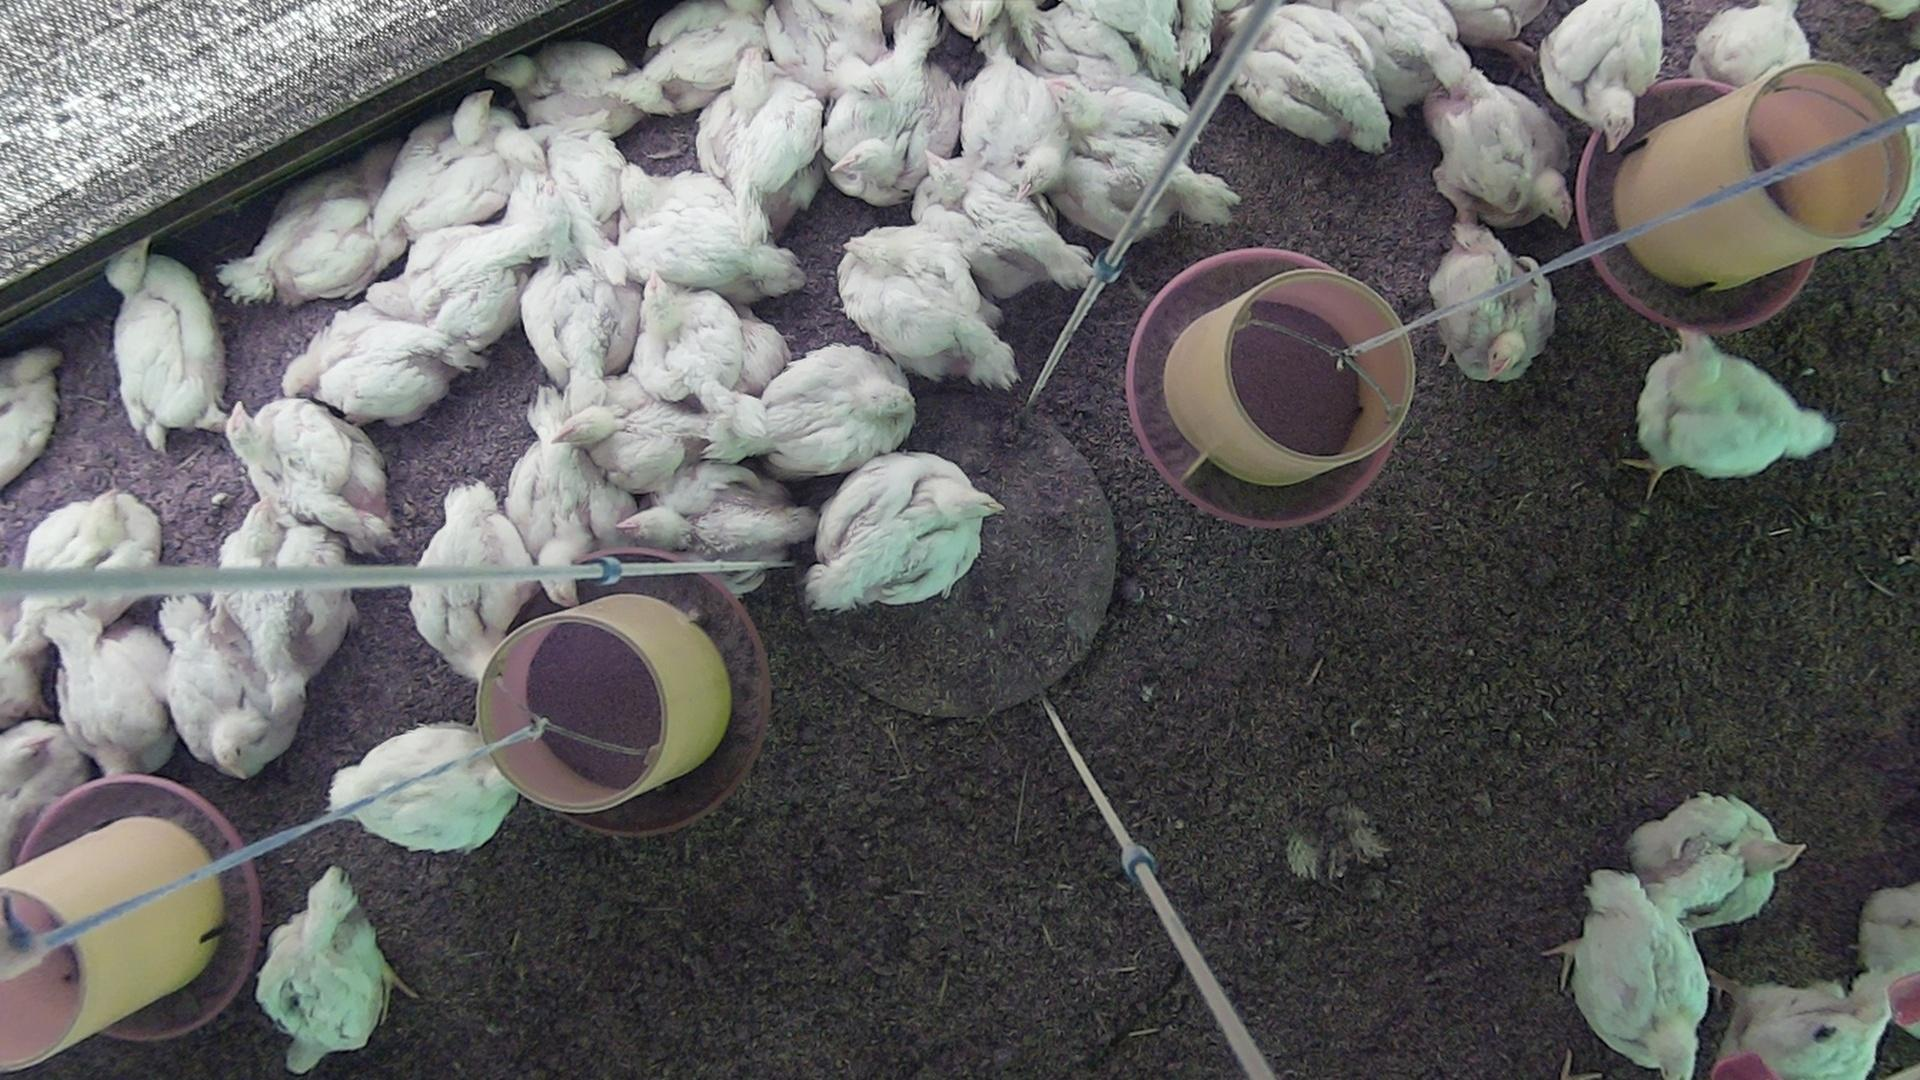ayam_broiler: (1623, 328, 1836, 501), (255, 866, 419, 1076), (1552, 870, 1706, 1079), (806, 450, 1000, 612), (218, 156, 421, 302), (837, 223, 1017, 388), (516, 182, 642, 410), (506, 388, 640, 596), (704, 343, 914, 475), (158, 588, 303, 778), (911, 148, 1096, 297), (216, 500, 360, 687), (823, 7, 959, 204), (1218, 3, 1389, 153), (618, 460, 818, 585), (373, 92, 541, 240), (411, 481, 534, 682), (225, 397, 390, 546), (361, 222, 535, 361), (1425, 62, 1572, 227), (326, 724, 517, 849), (618, 169, 802, 297), (111, 244, 224, 448), (1629, 794, 1804, 924), (20, 489, 161, 651), (1418, 219, 1557, 382), (633, 273, 793, 411), (696, 58, 824, 229), (1052, 135, 1241, 248), (284, 299, 458, 422), (504, 127, 636, 278), (1539, 0, 1663, 148), (957, 36, 1071, 196), (57, 624, 174, 778), (1325, 0, 1484, 112), (1722, 977, 1894, 1080), (621, 1, 764, 112), (0, 721, 99, 870), (492, 42, 647, 136), (1021, 0, 1179, 91), (580, 398, 709, 498), (1042, 59, 1189, 142), (1850, 881, 1920, 1046), (765, 0, 885, 94), (1692, 0, 1809, 92), (0, 348, 58, 502), (0, 597, 49, 732)
